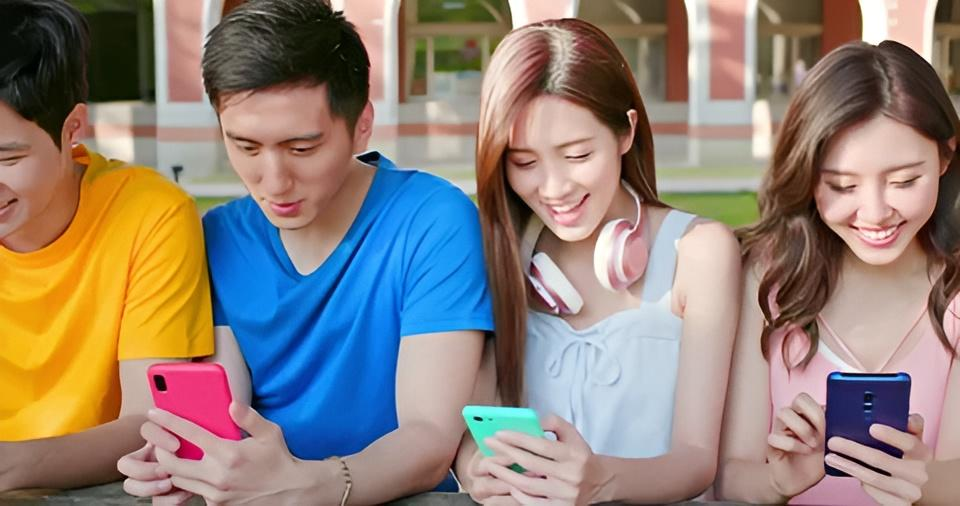phone: (112, 1, 486, 506), (446, 18, 741, 506), (709, 39, 960, 506)
